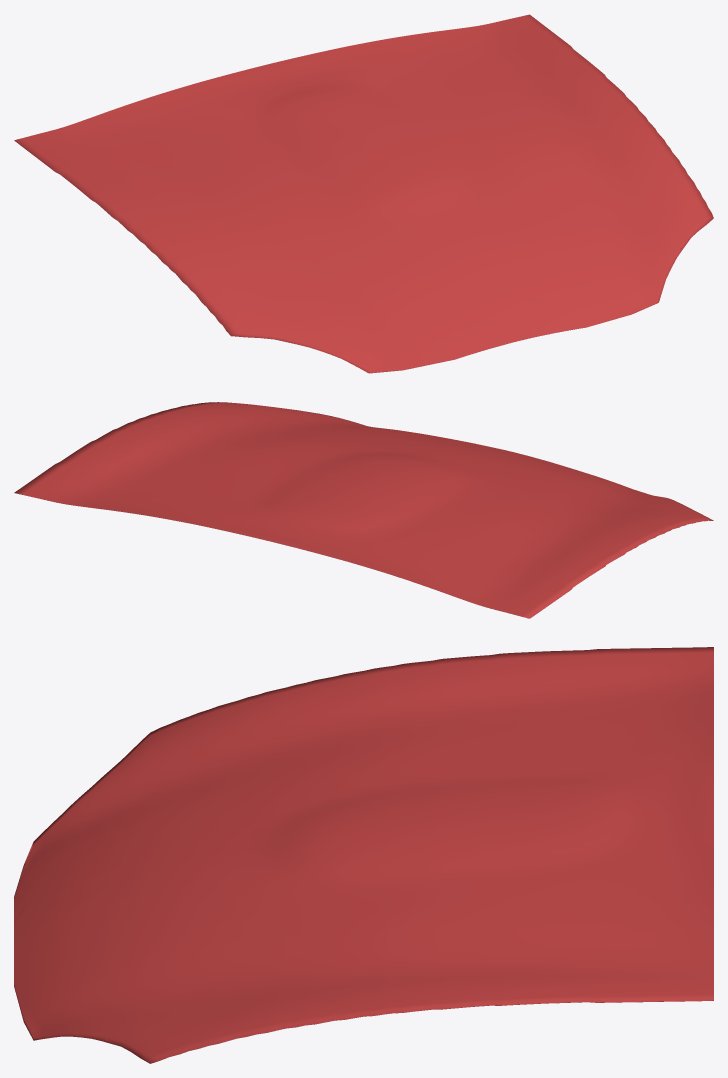
File: DT79_bonnet_wrap_accent.glb
3 renders of one model, top to bottom at view 1: azimuth 30°, elevation 25°; view 2: azimuth 150°, elevation 25°; view 3: azimuth 270°, elevation 25°, orthographic. The views are drawn at different scales.
Parts seen in each view (by area): view 1: MOD_NB_DT79_wrap; view 2: MOD_NB_DT79_wrap; view 3: MOD_NB_DT79_wrap.
Part boxes in pixels (box(x1,y1,x2,y2)): MOD_NB_DT79_wrap: box(14, 14, 713, 373); MOD_NB_DT79_wrap: box(14, 402, 713, 618); MOD_NB_DT79_wrap: box(14, 647, 713, 1063).
Size of the model in its own units: 1.32 by 0.2423 by 1.1.
